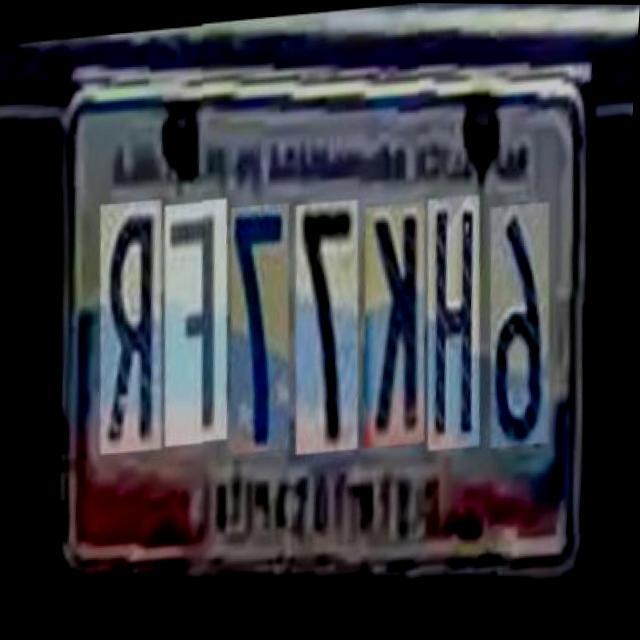6: (478, 199, 562, 445)
7: (284, 191, 370, 445), (220, 193, 302, 444)
f: (153, 186, 240, 432)
h: (416, 190, 492, 446)
k: (353, 194, 437, 440)
r: (88, 185, 176, 440)
